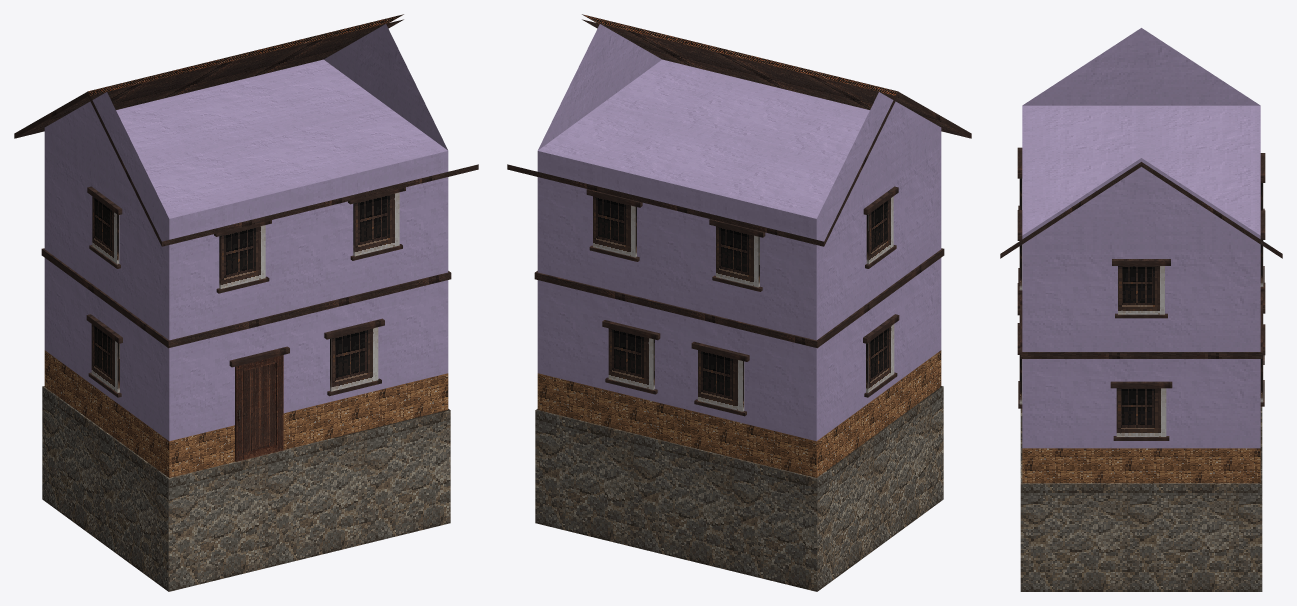
The model's file is 14_andina2p_lila_teja.glb.
3 renders of one model, left to right at view 1: azimuth 30°, elevation 25°; view 2: azimuth 150°, elevation 25°; view 3: azimuth 270°, elevation 25°, orthographic. The views are drawn at different scales.
Visible parts, largest first — view 1: 14_andina2p_lila_teja; view 2: 14_andina2p_lila_teja; view 3: 14_andina2p_lila_teja.
Boxes of the visible parts, x1=… form: 14_andina2p_lila_teja: x1=14, y1=14, x2=478, y2=591; 14_andina2p_lila_teja: x1=507, y1=14, x2=971, y2=591; 14_andina2p_lila_teja: x1=1000, y1=28, x2=1282, y2=591.
Bounding box in the file's own units: 7.04 × 9.74 × 5.68.
Materials: 7 (7 with a texture image).
